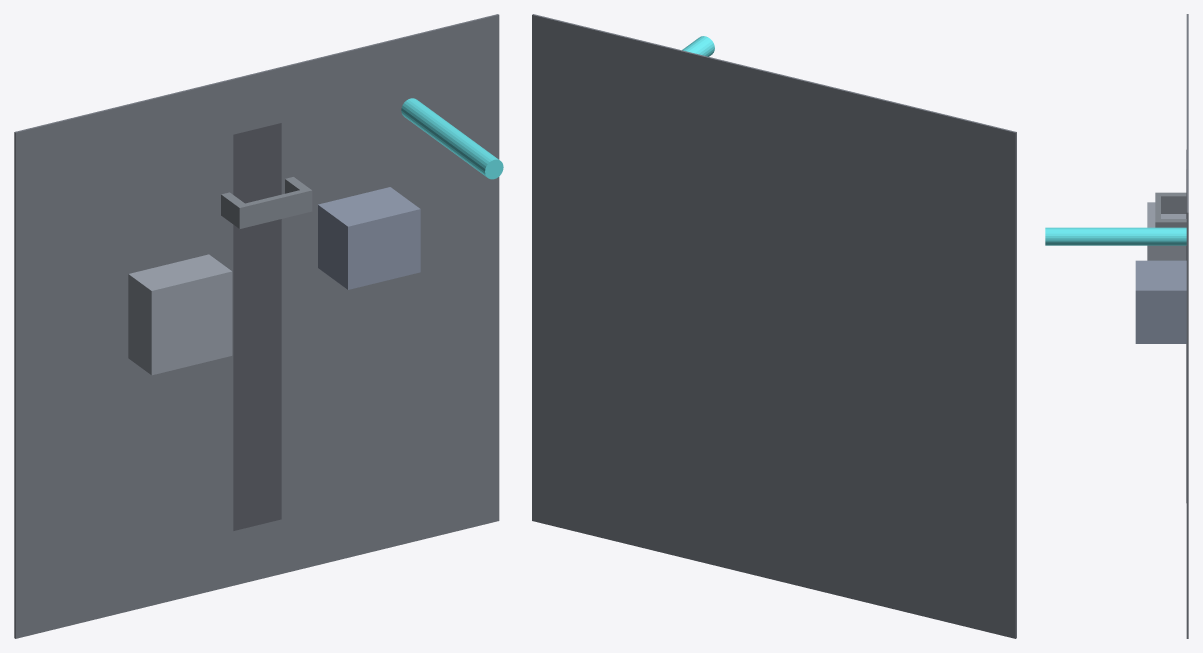
The model's file is neon.glb.
3 renders of one model, left to right at view 1: azimuth 30°, elevation 25°; view 2: azimuth 150°, elevation 25°; view 3: azimuth 270°, elevation 25°, orthographic. The views are drawn at different scales.
Visible parts, largest first — view 1: XPLAY_GROUND, XPLAY_ROAD, XPLAY_WAREHOUSE, XPLAY_LAB_BLOCK, XPLAY_NEON_SPIRE, XPLAY_OVERPASS_TOP, XPLAY_OVERPASS_L; view 2: XPLAY_GROUND; view 3: XPLAY_LAB_BLOCK, XPLAY_NEON_SPIRE, XPLAY_GROUND, XPLAY_WAREHOUSE, XPLAY_OVERPASS_L, XPLAY_OVERPASS_R, XPLAY_ROAD.
Boxes of the visible parts, x1,y1,x2,y2 form: XPLAY_GROUND: (14,14,499,638); XPLAY_ROAD: (233,123,281,530); XPLAY_WAREHOUSE: (128,254,232,375); XPLAY_LAB_BLOCK: (318,187,420,289); XPLAY_NEON_SPIRE: (401,98,503,179); XPLAY_OVERPASS_TOP: (237,190,312,228); XPLAY_OVERPASS_L: (221,192,248,228); XPLAY_GROUND: (532,14,1016,638); XPLAY_LAB_BLOCK: (1135,260,1186,343); XPLAY_NEON_SPIRE: (1045,227,1186,245); XPLAY_GROUND: (1186,14,1188,638); XPLAY_WAREHOUSE: (1147,202,1186,260); XPLAY_OVERPASS_L: (1155,192,1186,213); XPLAY_OVERPASS_R: (1155,219,1186,227); XPLAY_ROAD: (1186,150,1186,502).
Size of the model in its own units: 120 by 120 by 36.5.
